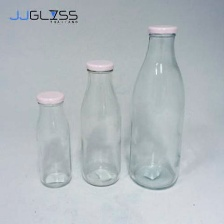bottle: (125, 20, 187, 193), (77, 55, 126, 190), (32, 85, 75, 192)
